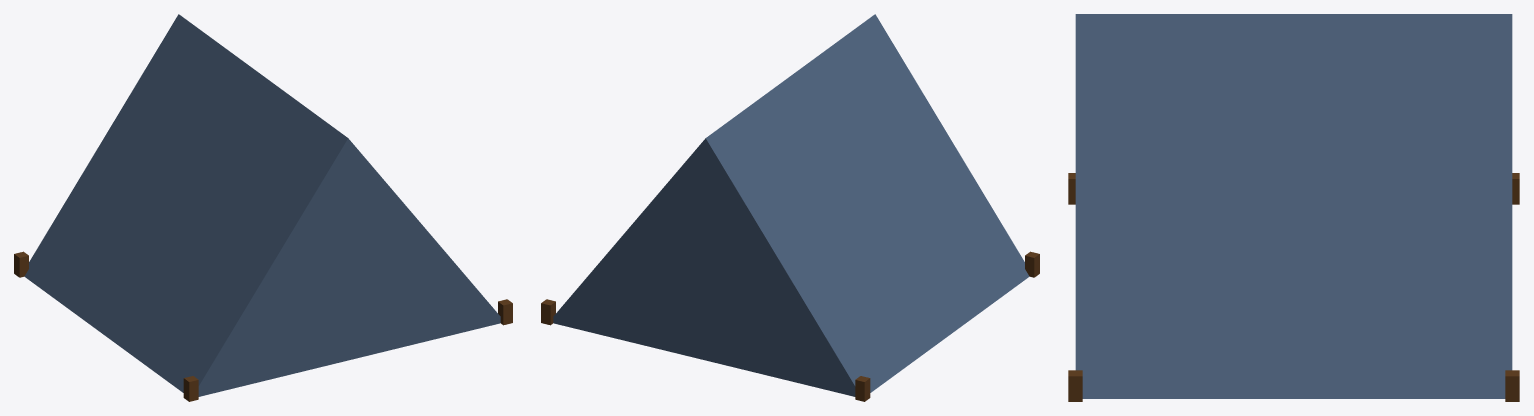
File: tent_01.glb
The picture shows the model from 3 angles, left to right: view 1: azimuth 30°, elevation 25°; view 2: azimuth 150°, elevation 25°; view 3: azimuth 270°, elevation 25°; orthographic projection. The views are drawn at different scales.
Visible parts, largest first — view 1: tent_01; view 2: tent_01; view 3: tent_01.
Part boxes in pixels (x1=…): tent_01: x1=14, y1=14, x2=512, y2=401; tent_01: x1=541, y1=14, x2=1039, y2=401; tent_01: x1=1068, y1=14, x2=1519, y2=401.
Size of the model in its own units: 1.71 by 1.12 by 1.6.
